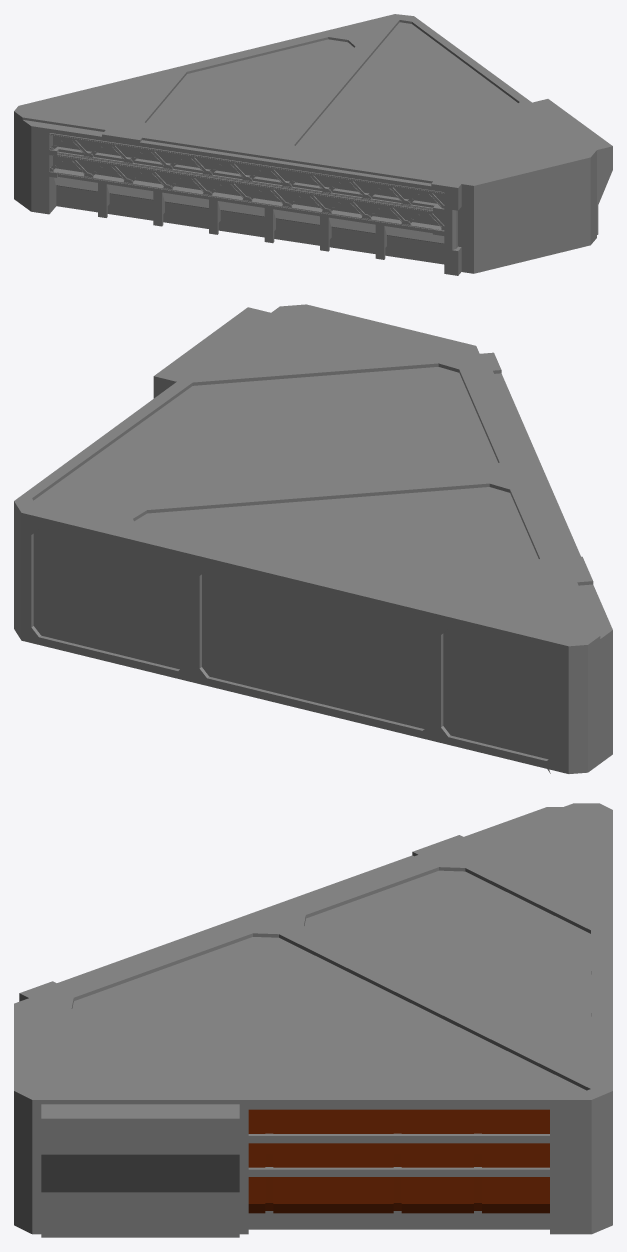
The model's file is Building_C_Middle.fbx.
3 renders of one model, top to bottom at view 1: azimuth 30°, elevation 25°; view 2: azimuth 150°, elevation 25°; view 3: azimuth 270°, elevation 25°, orthographic. The views are drawn at different scales.
Visible parts, largest first — view 1: Building_B_Middle_Base, Building_B_Middle_Frame, Emissive_Red; view 2: Building_B_Middle_Base; view 3: Building_B_Middle_Base, Glass_Red.
Boxes of the visible parts, x1,y1,x2,y2 form: Building_B_Middle_Base: (14,14,612,275); Building_B_Middle_Frame: (49,133,444,230); Emissive_Red: (54,177,444,243); Building_B_Middle_Base: (14,304,612,773); Building_B_Middle_Base: (14,803,612,1237); Glass_Red: (248,1109,549,1213).
Bounding box in the file's own units: 11079 × 2338 × 9025.
